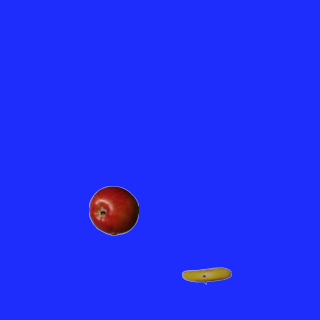Apple Braeburn: (88, 185, 138, 235)
Banana: (181, 250, 231, 300)
